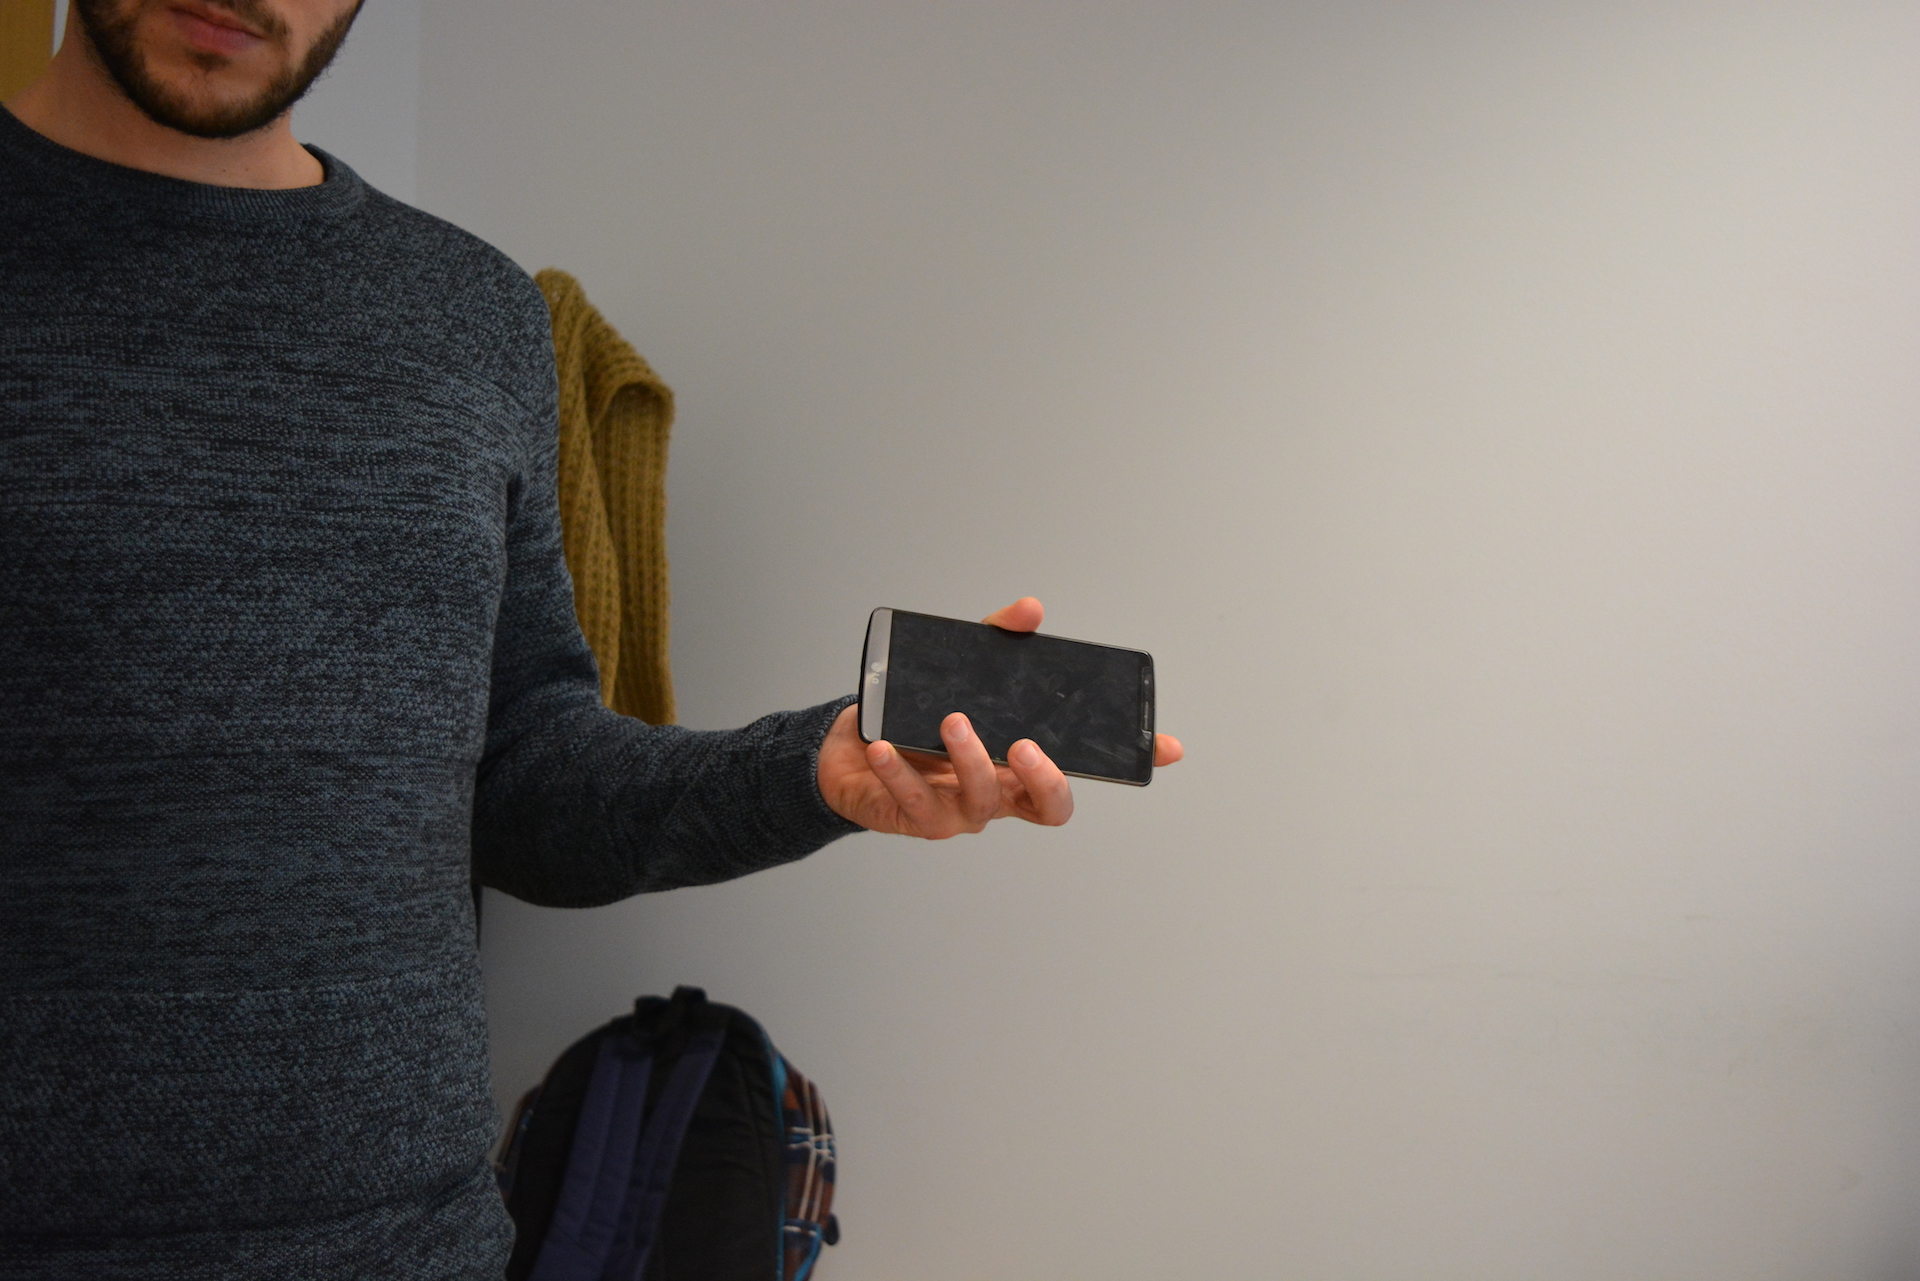smartphone: (856, 606, 1158, 788)
